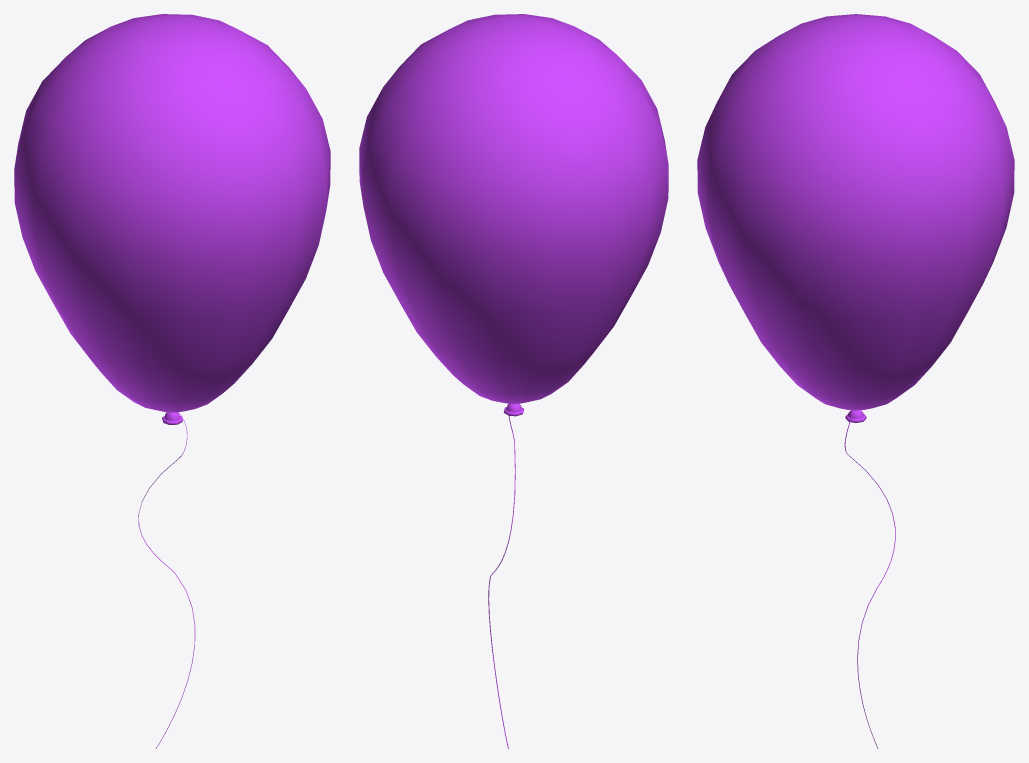
Rendered from ballon_purple.glb.
3 renders of one model, left to right at view 1: azimuth 30°, elevation 25°; view 2: azimuth 150°, elevation 25°; view 3: azimuth 270°, elevation 25°, orthographic. The views are drawn at different scales.
Parts seen in each view (by area): view 1: Balloon_purpole; view 2: Balloon_purpole; view 3: Balloon_purpole.
Boxes of the visible parts, bbox=[...] form: Balloon_purpole: bbox=[14, 14, 330, 748]; Balloon_purpole: bbox=[359, 14, 668, 748]; Balloon_purpole: bbox=[697, 14, 1014, 748].
Size of what is drawn, in the model's own units: 0.2648 by 0.664 by 0.2648.
